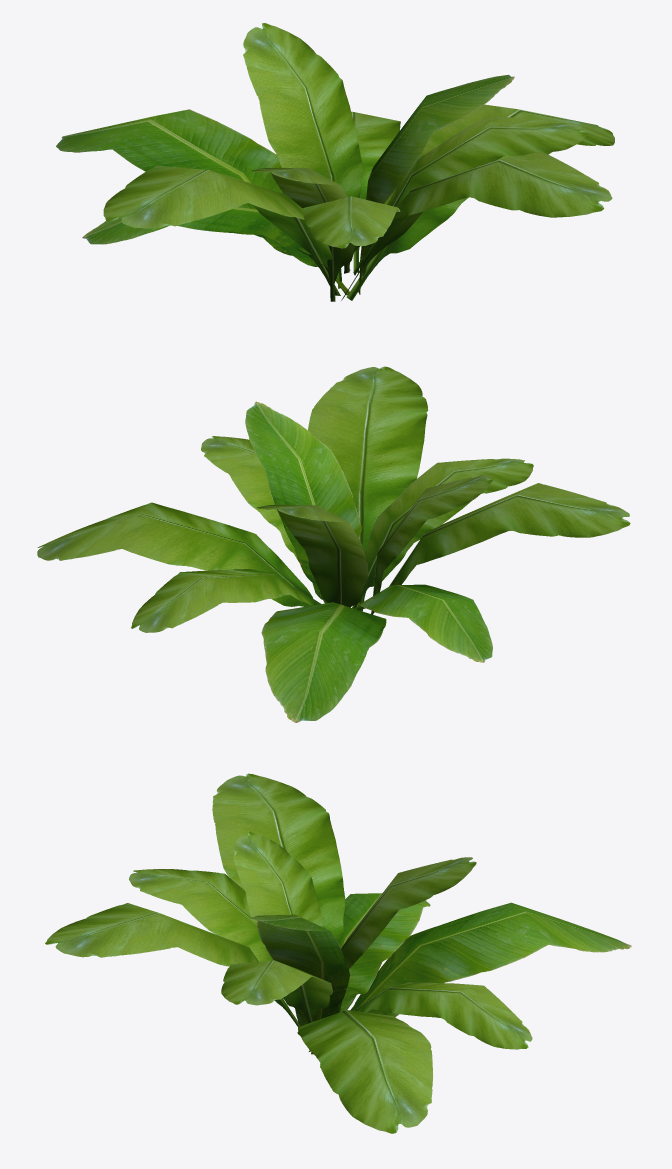
The model's file is Plant_02.FBX.
3 views of the same model, one above another, from view 1: azimuth 30°, elevation 25°; view 2: azimuth 150°, elevation 25°; view 3: azimuth 270°, elevation 25° (orthographic). The views are drawn at different scales.
Parts seen in each view (by area): view 1: Plant_02; view 2: Plant_02; view 3: Plant_02.
Boxes of the visible parts, bbox=[...] form: Plant_02: bbox=[56, 23, 614, 301]; Plant_02: bbox=[37, 366, 630, 722]; Plant_02: bbox=[45, 773, 631, 1133].
Size of the model in its own units: 5.3 by 1.82 by 5.2.
Materials: 1 (1 with a texture image).
